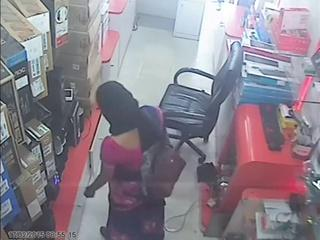Normal: (84, 80, 170, 239)
